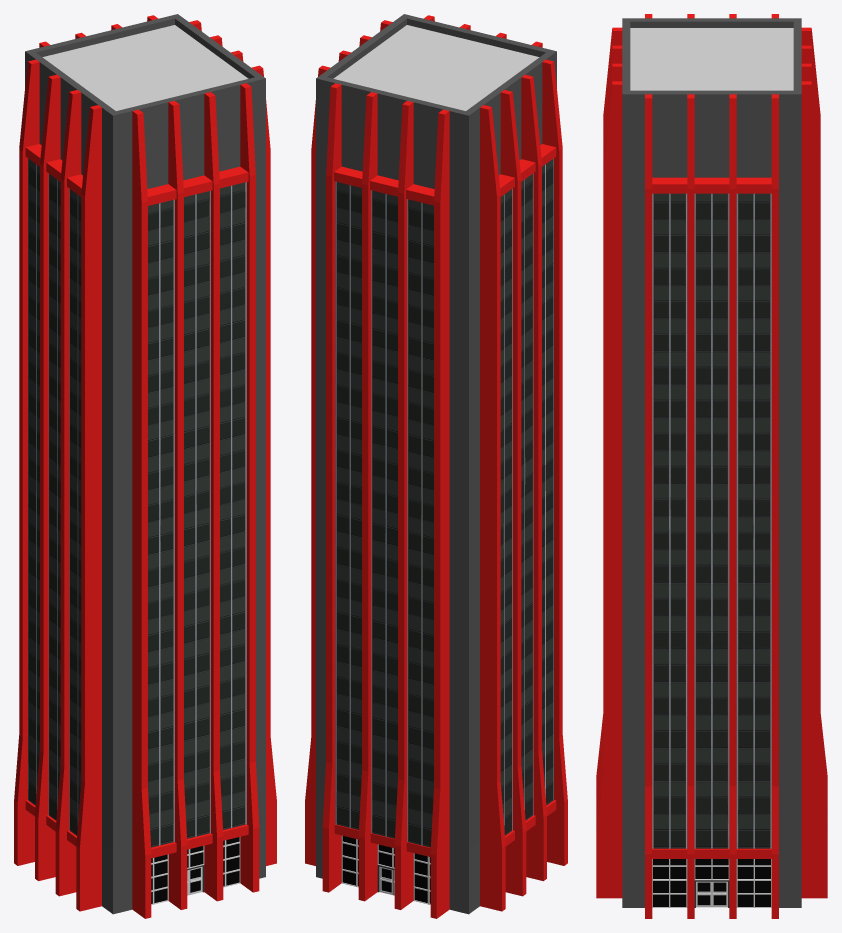
3 renders of one model, left to right at view 1: azimuth 30°, elevation 25°; view 2: azimuth 150°, elevation 25°; view 3: azimuth 270°, elevation 25°, orthographic.
Parts seen in each view (by area): view 1: EC-01; view 2: EC-01; view 3: EC-01.
Boxes of the visible parts, <box> form: EC-01: <box>14,14,276,918</box>; EC-01: <box>305,14,567,918</box>; EC-01: <box>596,14,827,918</box>.
Size of what is drawn, in the model's own units: 19.46 by 75.39 by 19.43.
